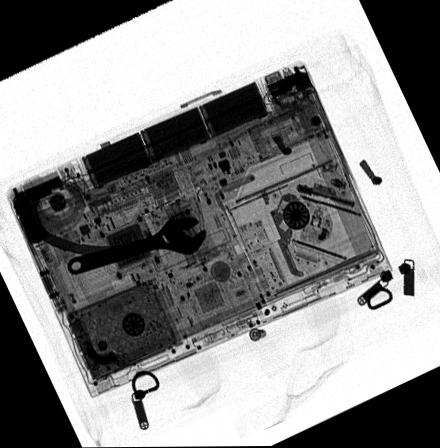Wrench: (63, 214, 207, 274)
